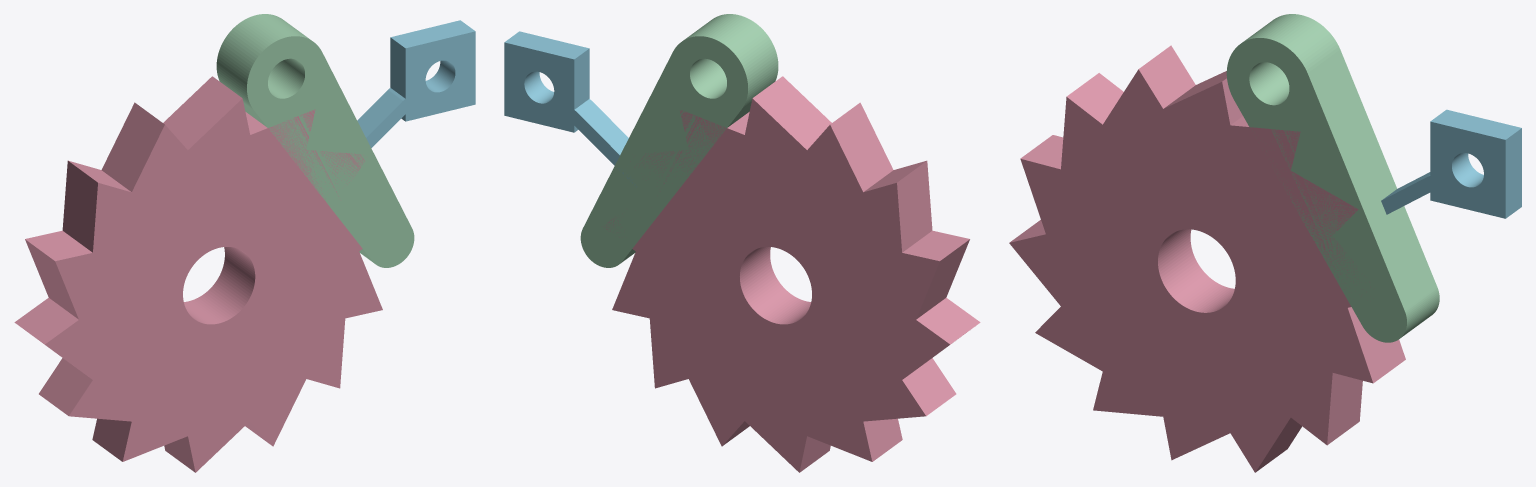
Rendered from ratchet_wheel_pawl_demo.glb.
The picture shows the model from 3 angles, left to right: view 1: azimuth 30°, elevation 25°; view 2: azimuth 150°, elevation 25°; view 3: azimuth 330°, elevation 25°; orthographic projection. The views are drawn at different scales.
Parts seen in each view (by area): view 1: wheel, pawl, spring; view 2: wheel, pawl, spring; view 3: wheel, pawl, spring.
Part boxes in pixels (left/top/right/bottom): wheel: left=14, top=76, right=382, bottom=472; pawl: left=216, top=14, right=414, bottom=267; spring: left=357, top=20, right=475, bottom=147; wheel: left=605, top=76, right=980, bottom=472; pawl: left=580, top=14, right=778, bottom=267; spring: left=504, top=31, right=636, bottom=187; wheel: left=1009, top=45, right=1405, bottom=472; pawl: left=1226, top=14, right=1439, bottom=342; spring: left=1381, top=109, right=1521, bottom=218.
Bounding box in the file's own units: 50.94 × 45.13 × 6.
